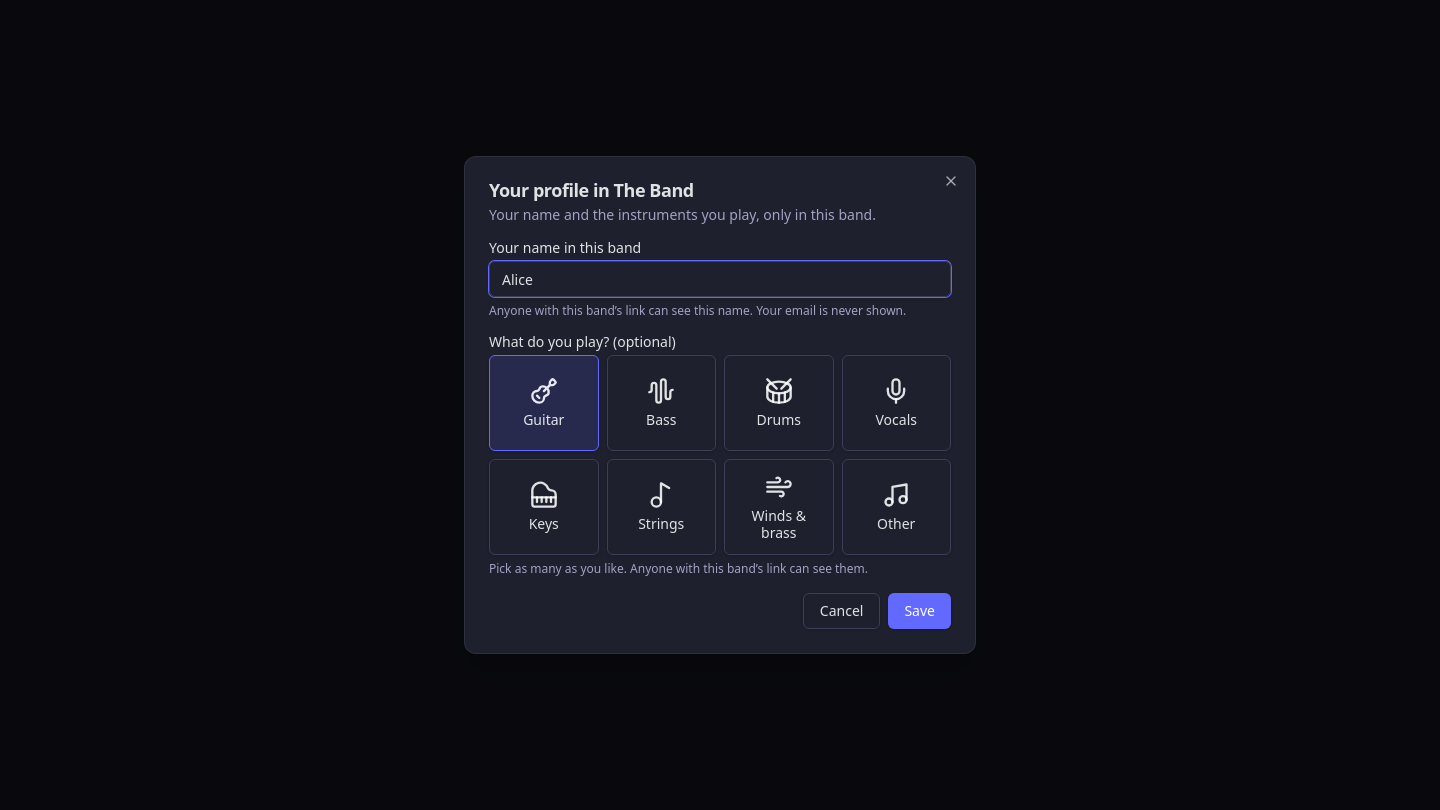
EditProfileDialog › on failure shows the message inline, stays open, but still settles so the page can refresh
Click the button "Save": {"x": 920, "y": 611} [888,593,951,629]
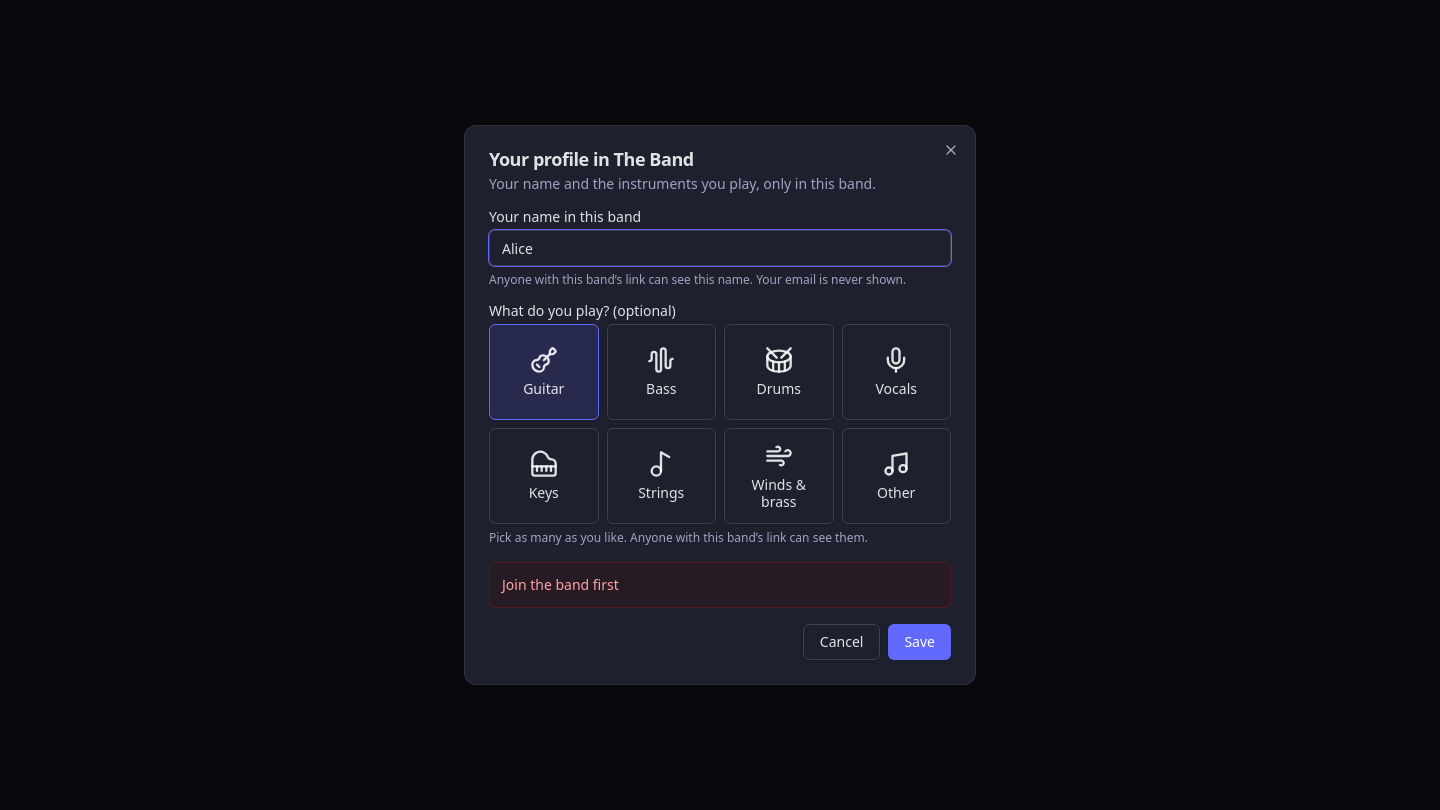
Expected: the button "Save" is enabled, [888,624,951,660]
Expected: the message reads "Join the band first", [502,575,619,594]
